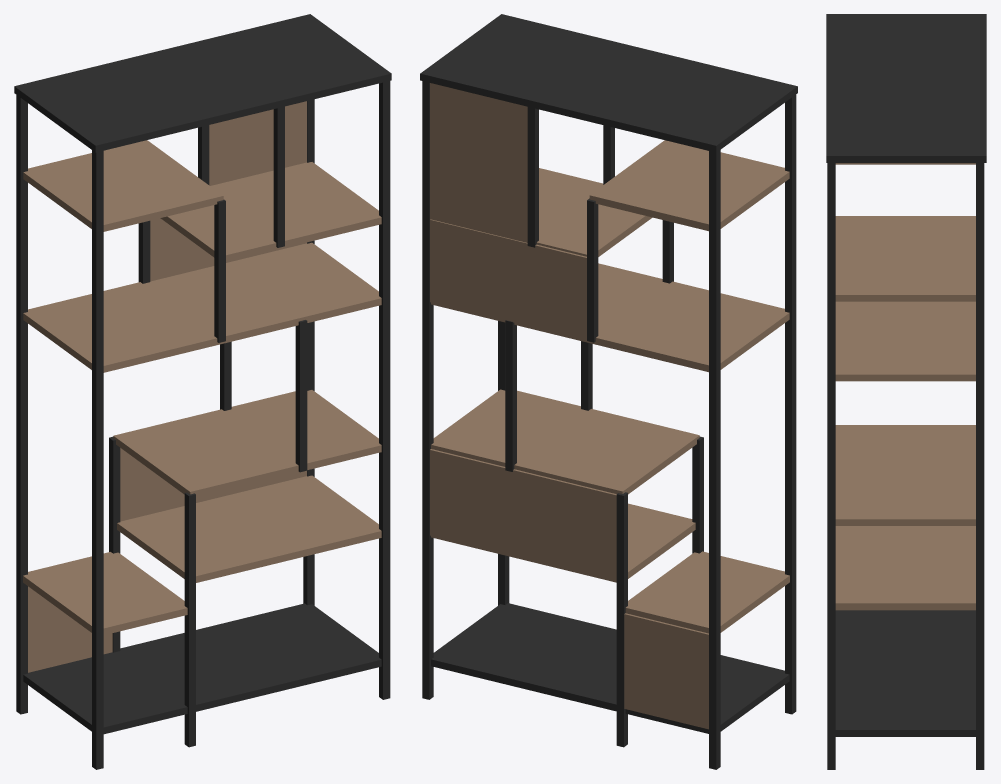
Rendered from rack019.glb.
3 views of the same model, side by side, from view 1: azimuth 30°, elevation 25°; view 2: azimuth 150°, elevation 25°; view 3: azimuth 270°, elevation 25° (orthographic).
Parts seen in each view (by area): view 1: racks.019; view 2: racks.019; view 3: racks.019.
Part boxes in pixels (x1,y1,x2,y2): racks.019: (14,14,391,769); racks.019: (420,14,797,769); racks.019: (826,14,986,769).
Bounding box in the file's own units: 1.02 × 2.05 × 0.484.
Materials: 1 (1 with a texture image).
